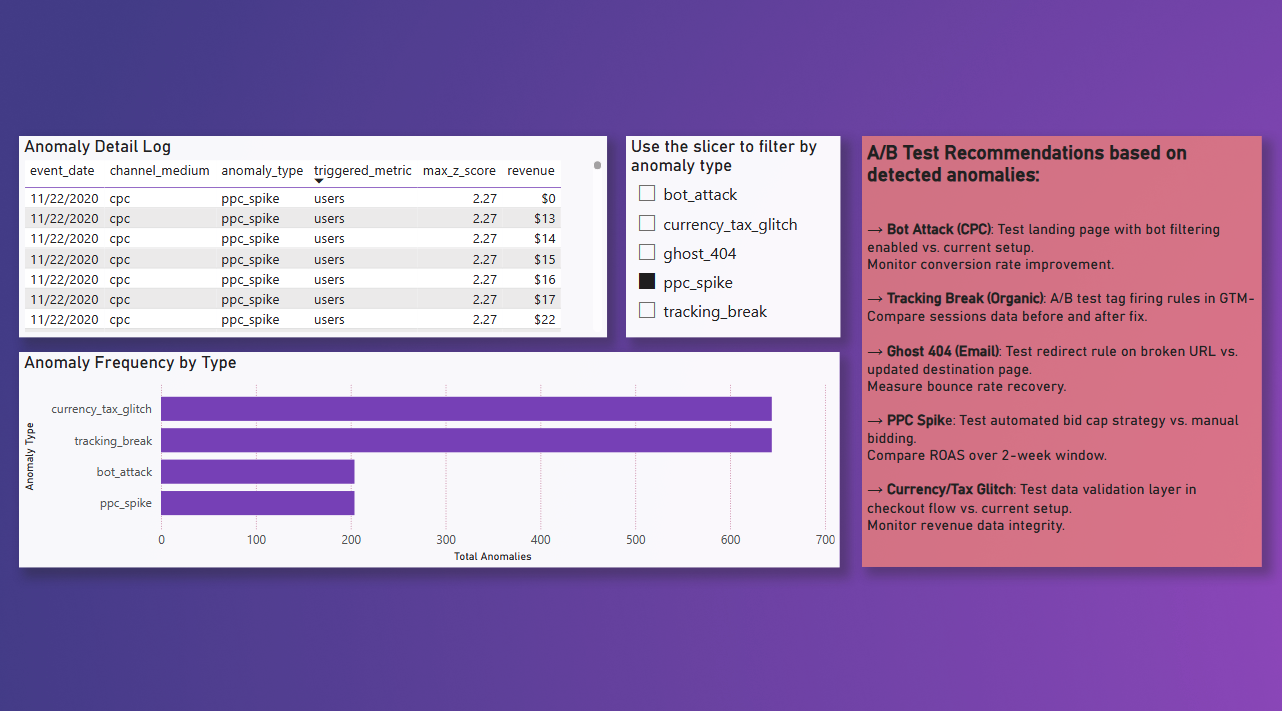

What the dashboard file says about the page in this screenshot:
{"tool":"powerbi","page":{"name":"Page 2","canvas":[1280,720],"ordinal":1},"visuals":[{"type":"tableEx","title":"Anomaly Detail Log","fields":{"Values":["fact_daily_metrics_enriched.event_date","fact_daily_metrics_enriched.channel_medium","fact_daily_metrics_enriched.anomaly_type","fact_daily_metrics_enriched.triggered_metric","fact_daily_metrics_enriched.max_z_score","fact_daily_metrics_enriched.revenue"]},"box":[22.8,140,583.9,199.6],"z":0},{"type":"slicer","title":"Use the slicer to filter by anomaly type","fields":{"Values":["fact_daily_metrics_enriched.anomaly_type"]},"box":[625.7,140,212.5,199.6],"z":1000},{"type":"clusteredBarChart","title":"Anomaly Frequency by Type","fields":{"Category":["fact_daily_metrics_enriched.anomaly_type"],"Y":["fact_daily_metrics_enriched.Total Anomalies"]},"box":[22.8,354.5,815.3,213.5],"z":2000},{"type":"textbox","box":[860,140,397.2,428],"z":2001}]}

Visuals, with their boxes in screenshot pixels (x1, y1, x2, y2), scaled from the page's 1280x720 canvas onto the 1282x711 screenshot:
"Anomaly Detail Log" tableEx: region(23, 138, 608, 335)
"Use the slicer to filter by anomaly type" slicer: region(627, 138, 840, 335)
"Anomaly Frequency by Type" clusteredBarChart: region(23, 350, 839, 561)
textbox: region(861, 138, 1259, 561)
